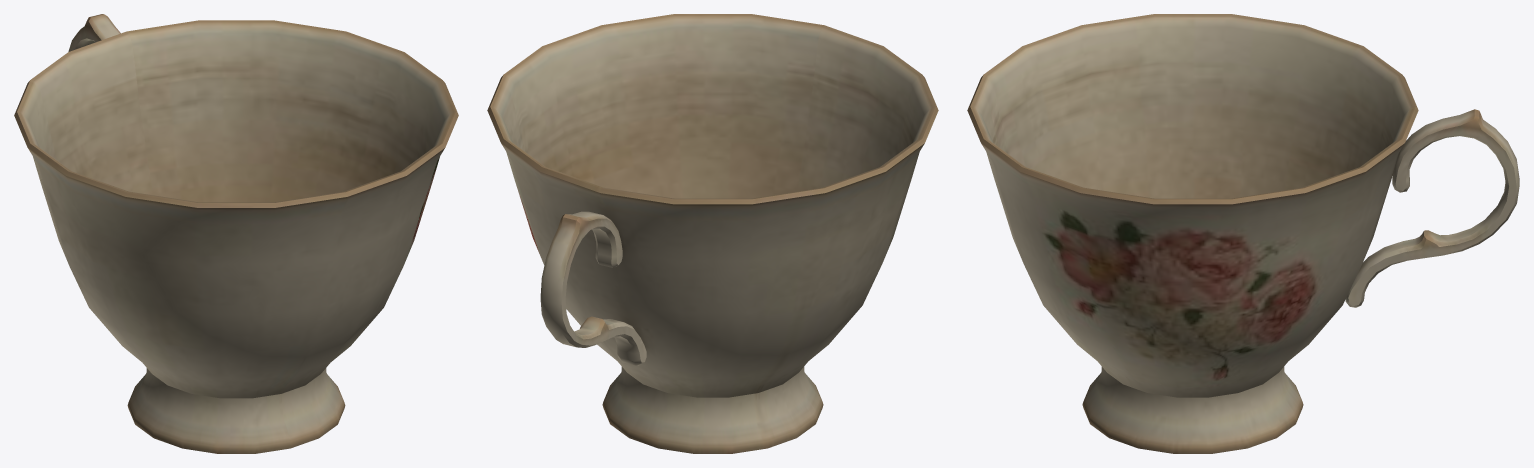
File: teacup.glb
The picture shows the model from 3 angles, left to right: view 1: azimuth 30°, elevation 25°; view 2: azimuth 150°, elevation 25°; view 3: azimuth 270°, elevation 25°; orthographic projection.
Visible parts, largest first — view 1: teacup.001; view 2: teacup.001; view 3: teacup.001.
Part boxes in pixels (x1,y1,x2,y2): teacup.001: (14,14,458,453); teacup.001: (487,14,938,453); teacup.001: (967,14,1519,453).
Bounding box in the file's own units: 0.0824 × 0.0617 × 0.1024.
1 material, 1 textured.
